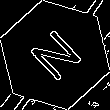N_SE: (23, 23, 87, 87)
